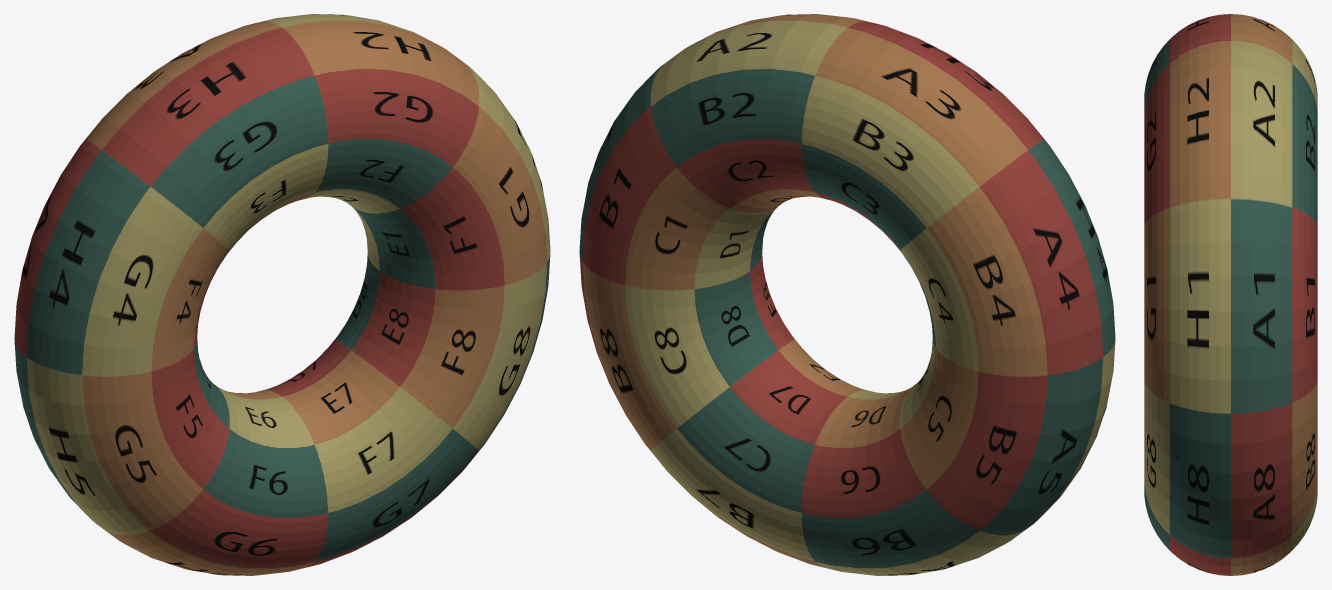
Rendered from texture_torus_R14_r25.glb.
3 renders of one model, left to right at view 1: azimuth 30°, elevation 25°; view 2: azimuth 150°, elevation 25°; view 3: azimuth 270°, elevation 25°, orthographic. The views are drawn at different scales.
Visible parts, largest first — view 1: world; view 2: world; view 3: world.
Boxes of the visible parts, box(x1,y1,x2,y2) form: world: box(14, 14, 550, 575); world: box(579, 14, 1115, 575); world: box(1144, 14, 1317, 575).
Bounding box in the file's own units: 28 × 27.94 × 8.65.
Materials: 1 (1 with a texture image).
